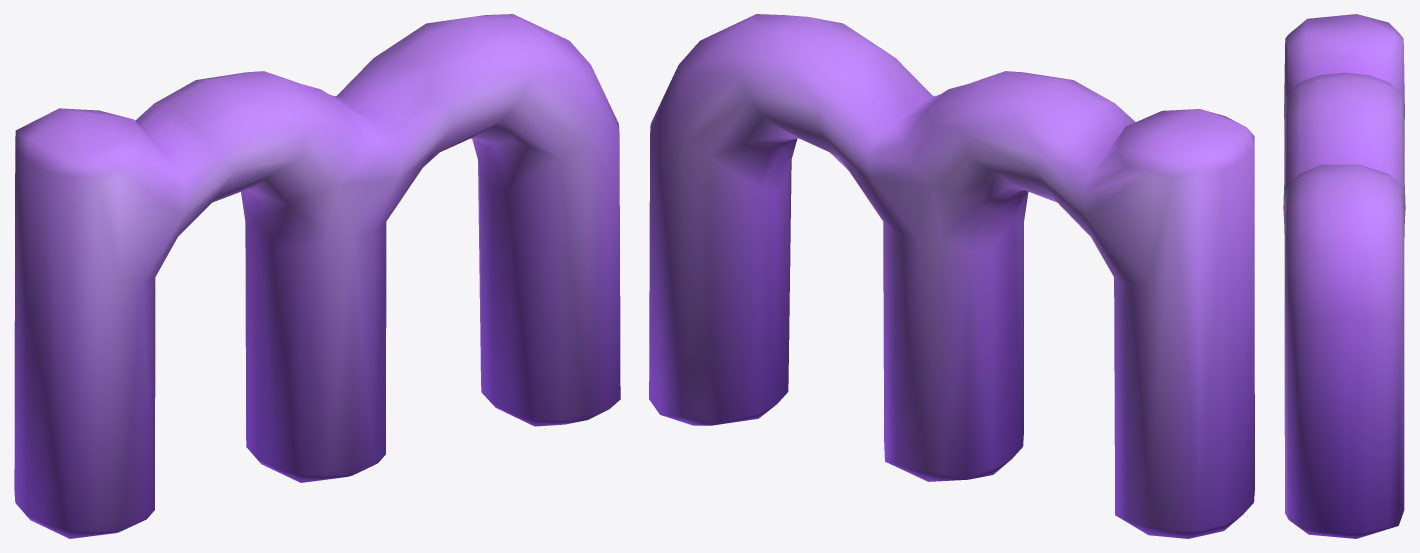
3 views of the same model, side by side, from view 1: azimuth 30°, elevation 25°; view 2: azimuth 150°, elevation 25°; view 3: azimuth 270°, elevation 25° (orthographic). The views are drawn at different scales.
Parts seen in each view (by area): view 1: Processed_Mesh0_Geometry; view 2: Processed_Mesh0_Geometry; view 3: Processed_Mesh0_Geometry.
Part boxes in pixels (left/top/right/bottom): Processed_Mesh0_Geometry: left=14, top=14, right=620, bottom=538; Processed_Mesh0_Geometry: left=649, top=14, right=1254, bottom=538; Processed_Mesh0_Geometry: left=1283, top=14, right=1405, bottom=538.
Size of what is drawn, in the model's own units: 0.0858 by 0.0567 by 0.0195.
Materials: 1 (1 with a texture image).
